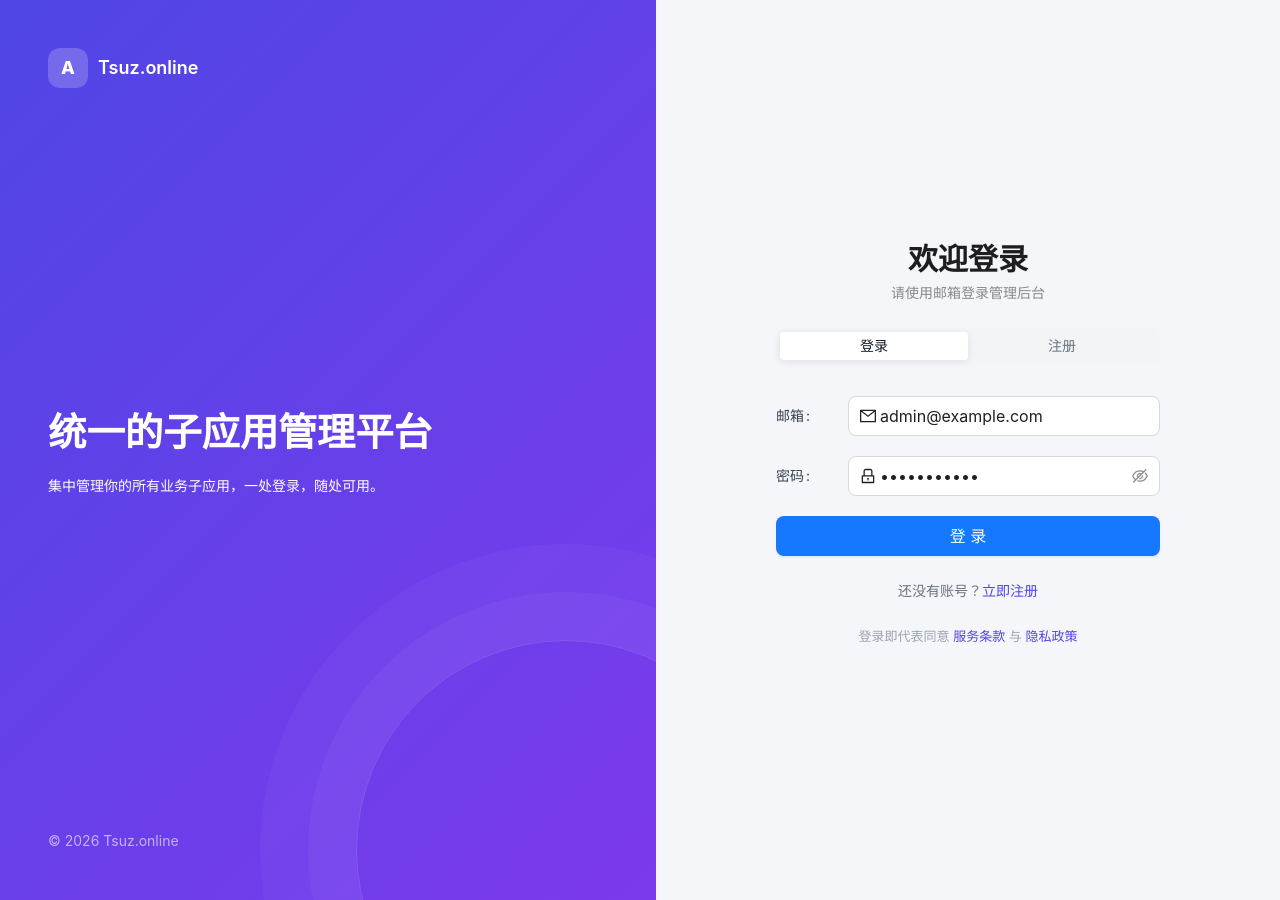
Scenario: LoginPage › sends a registration code and respects the resend countdown
Click the text "注册".
click(1062, 346)  # box [1048, 337, 1076, 354]
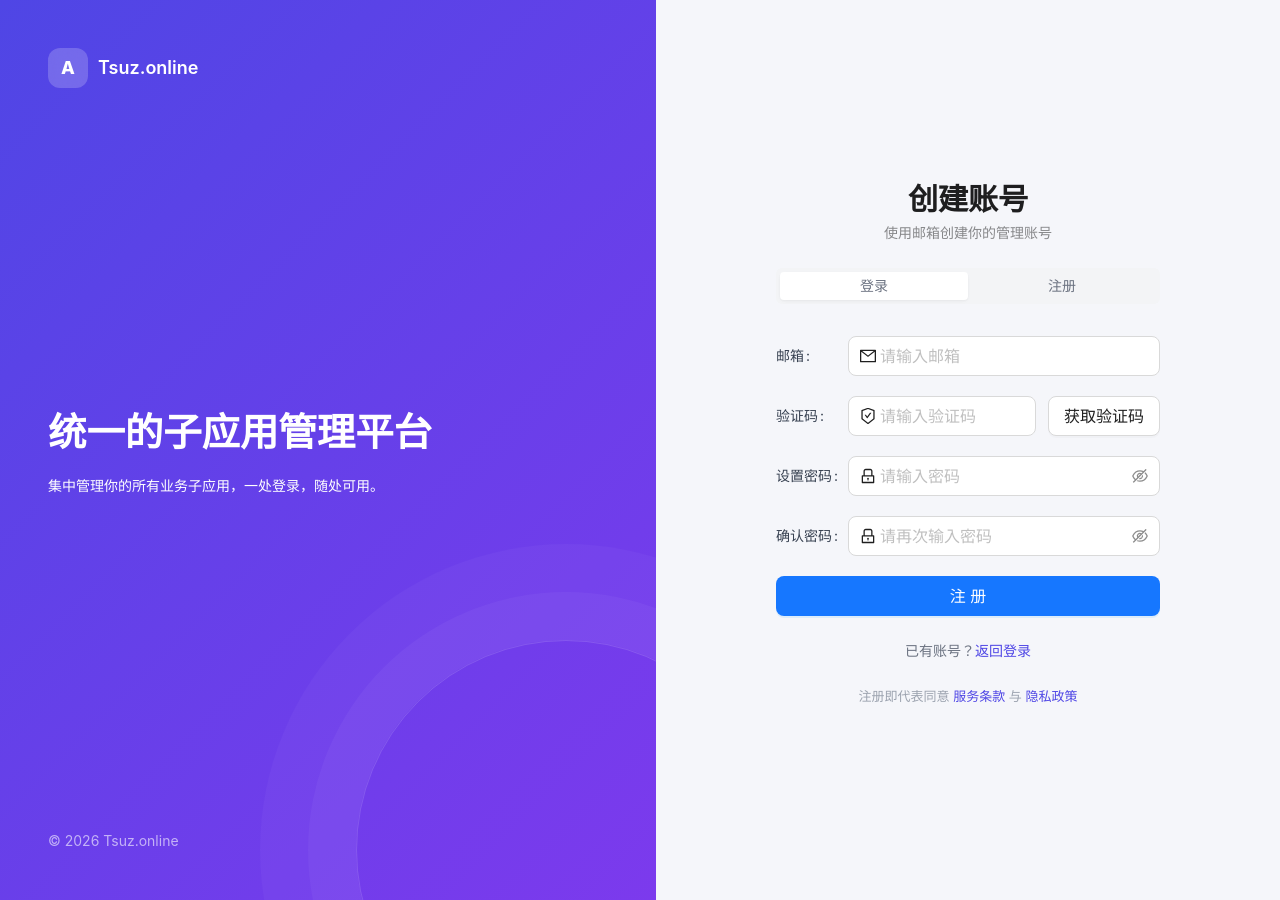
Type "operator@example.com" into the field labelled "邮箱".
click(1014, 356); type("operator@example.com")  # box [880, 344, 1148, 368]
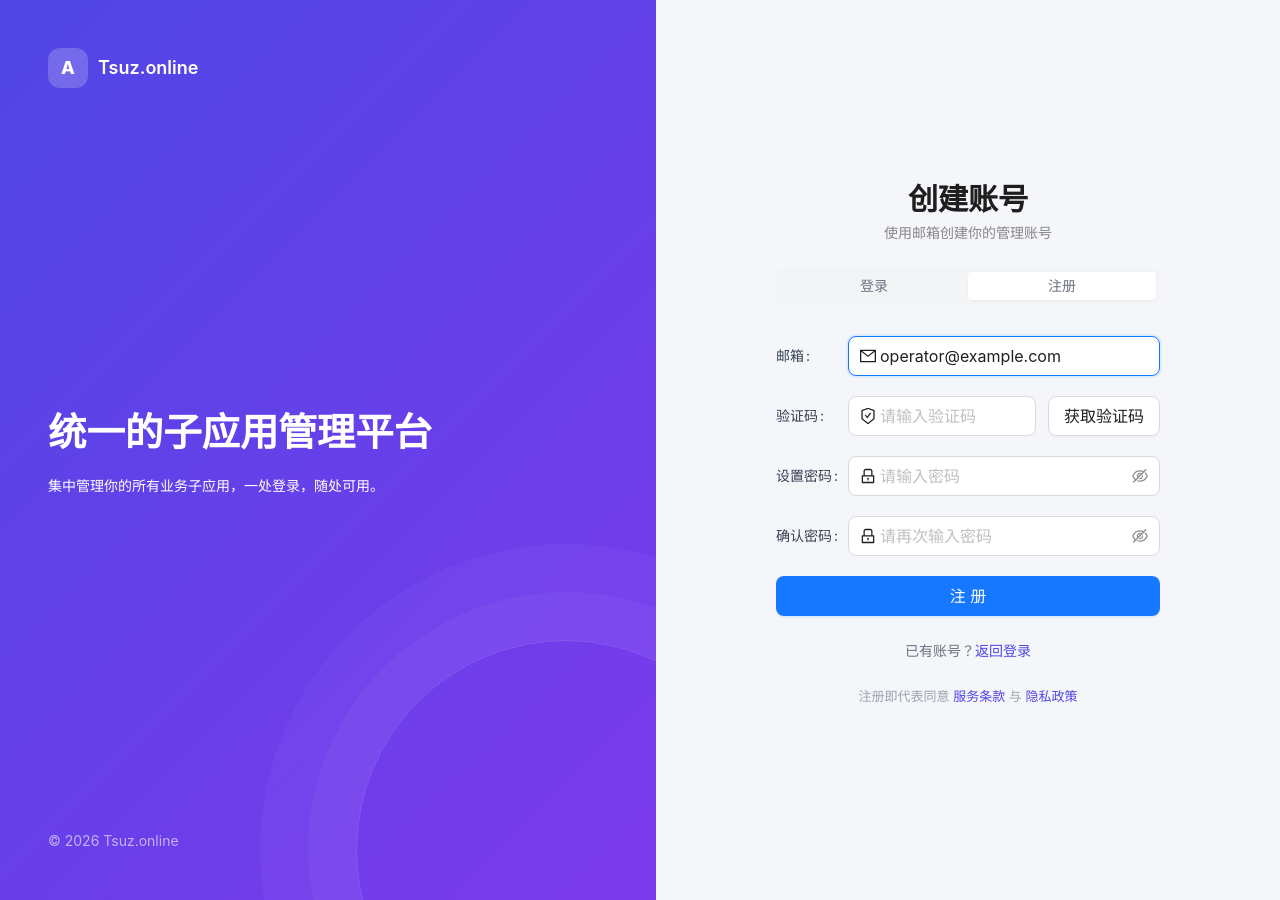
Click the button "获取验证码".
click(1104, 416)  # box [1048, 396, 1160, 436]
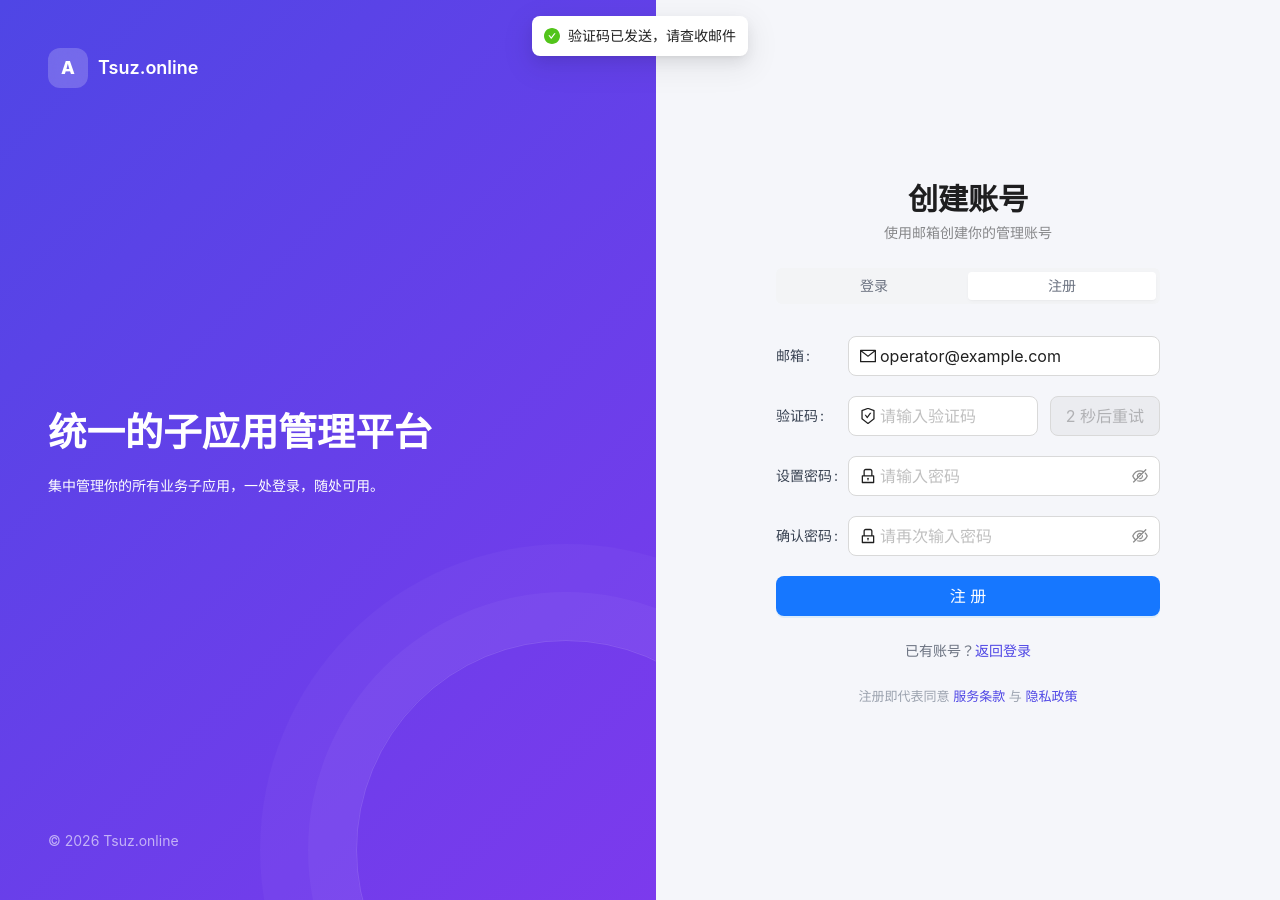
Now the button "2 秒后重试" is disabled
Click the button "2 秒后重试".
click(1105, 416)  # box [1050, 396, 1160, 436]
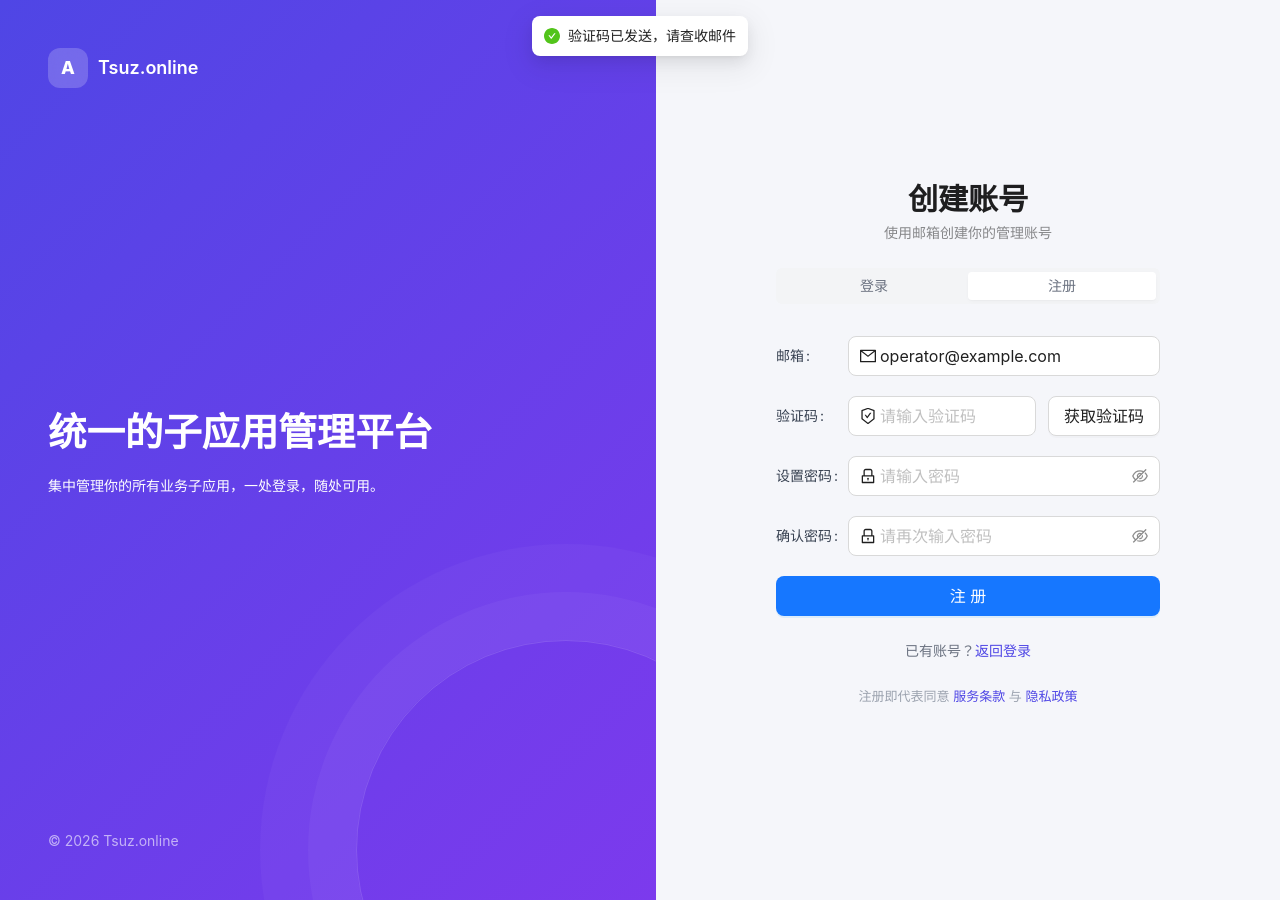
Now the button "获取验证码" is enabled, box [1048, 396, 1160, 436]
